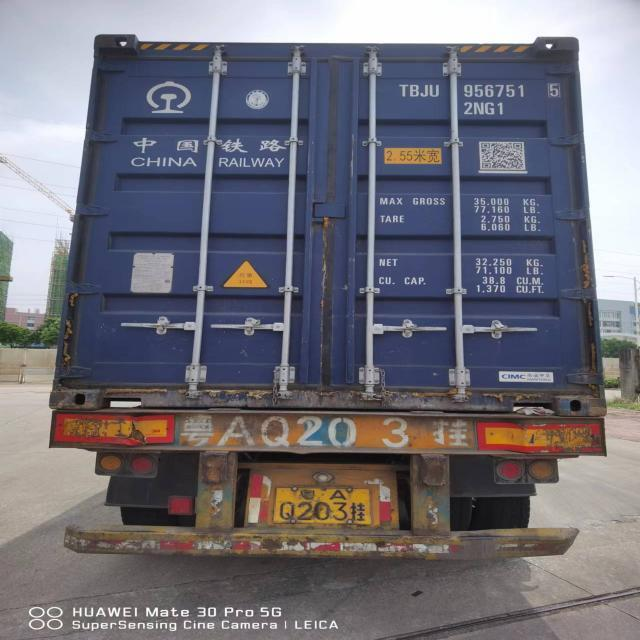ISO: (467, 102, 504, 116)
container_number: (403, 82, 564, 100)
